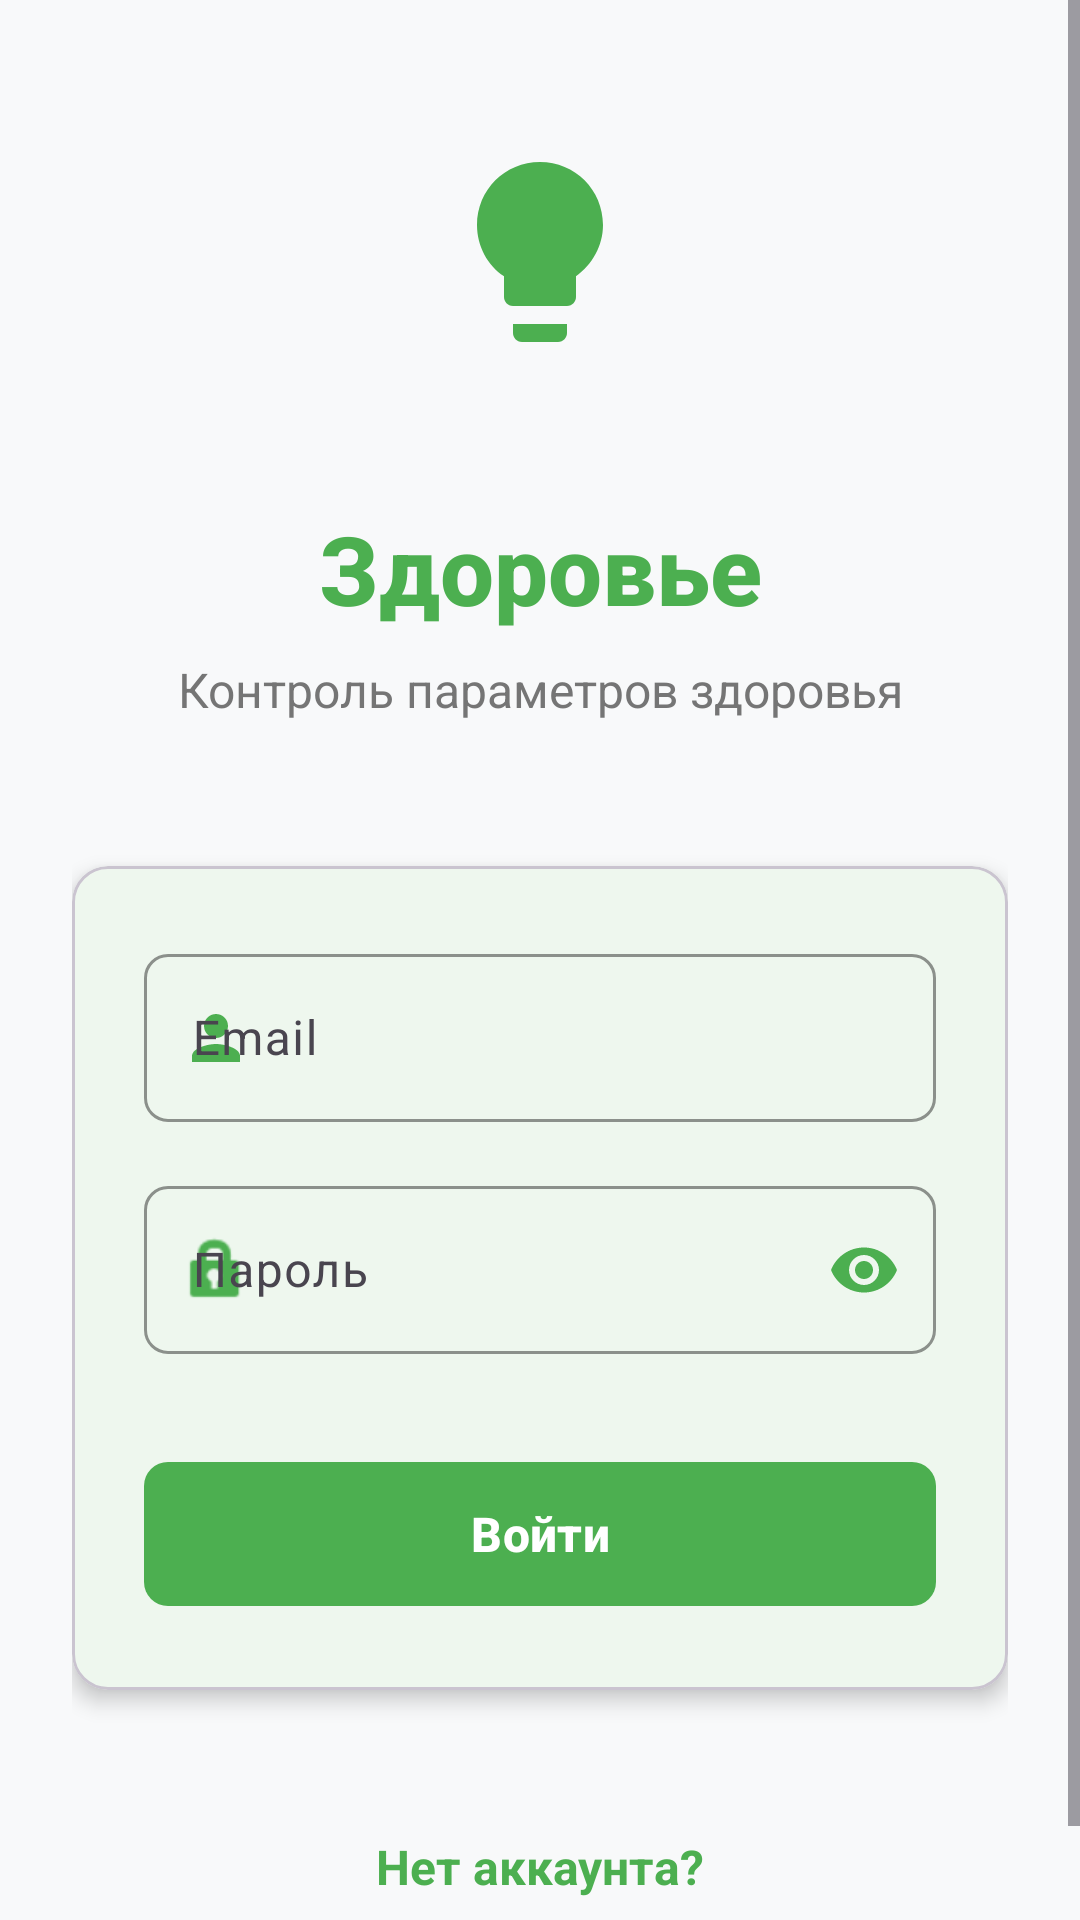

Named icons in this screenshot (1080x1920) and their centers, [x,y]:
tips: [540,252]
